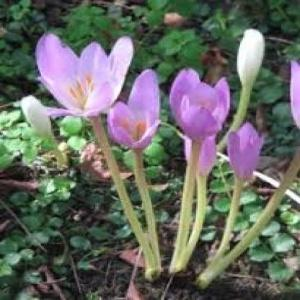Saffron: (32, 29, 133, 120), (106, 64, 160, 153), (171, 69, 230, 145), (226, 122, 262, 185)
